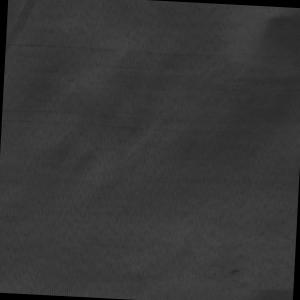Wrinkle: (217, 5, 300, 176), (5, 1, 43, 71)
